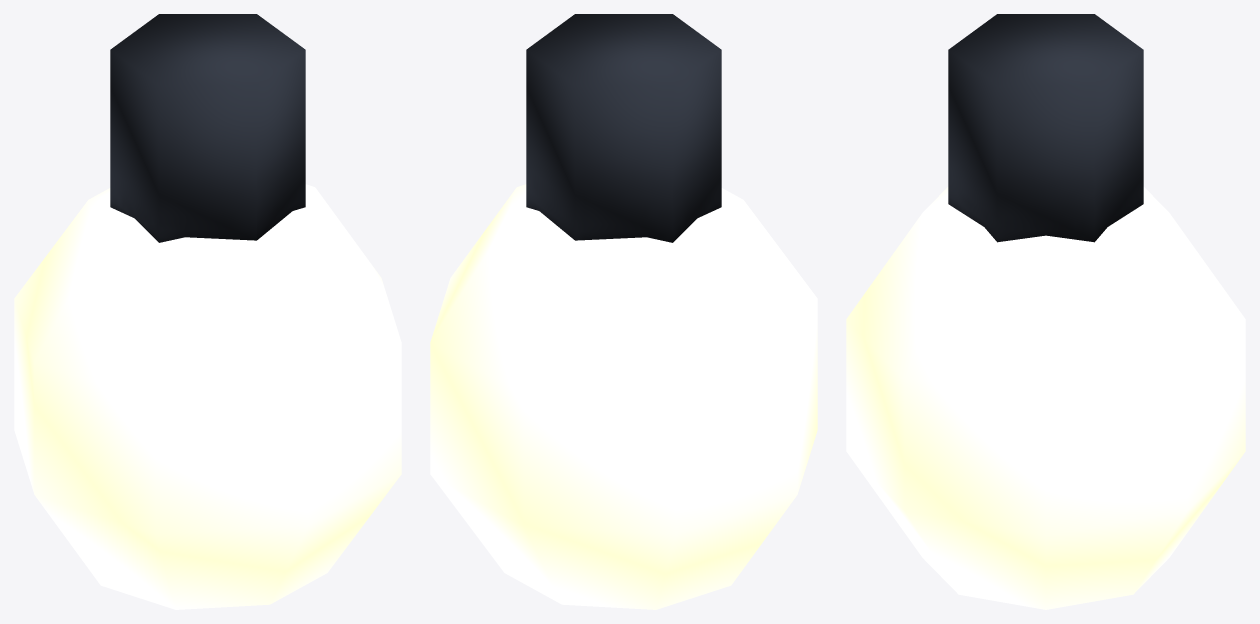
The model's file is string_bulb.glb.
3 renders of one model, left to right at view 1: azimuth 30°, elevation 25°; view 2: azimuth 150°, elevation 25°; view 3: azimuth 270°, elevation 25°, orthographic.
Parts seen in each view (by area): view 1: string_bulb; view 2: string_bulb; view 3: string_bulb.
Part boxes in pixels (x1,y1,x2,y2): string_bulb: [14, 14, 401, 609]; string_bulb: [430, 14, 817, 609]; string_bulb: [846, 14, 1245, 609].
Bounding box in the file's own units: 0.0533 × 0.0807 × 0.0533.
Materials: 2 (1 with a texture image).
